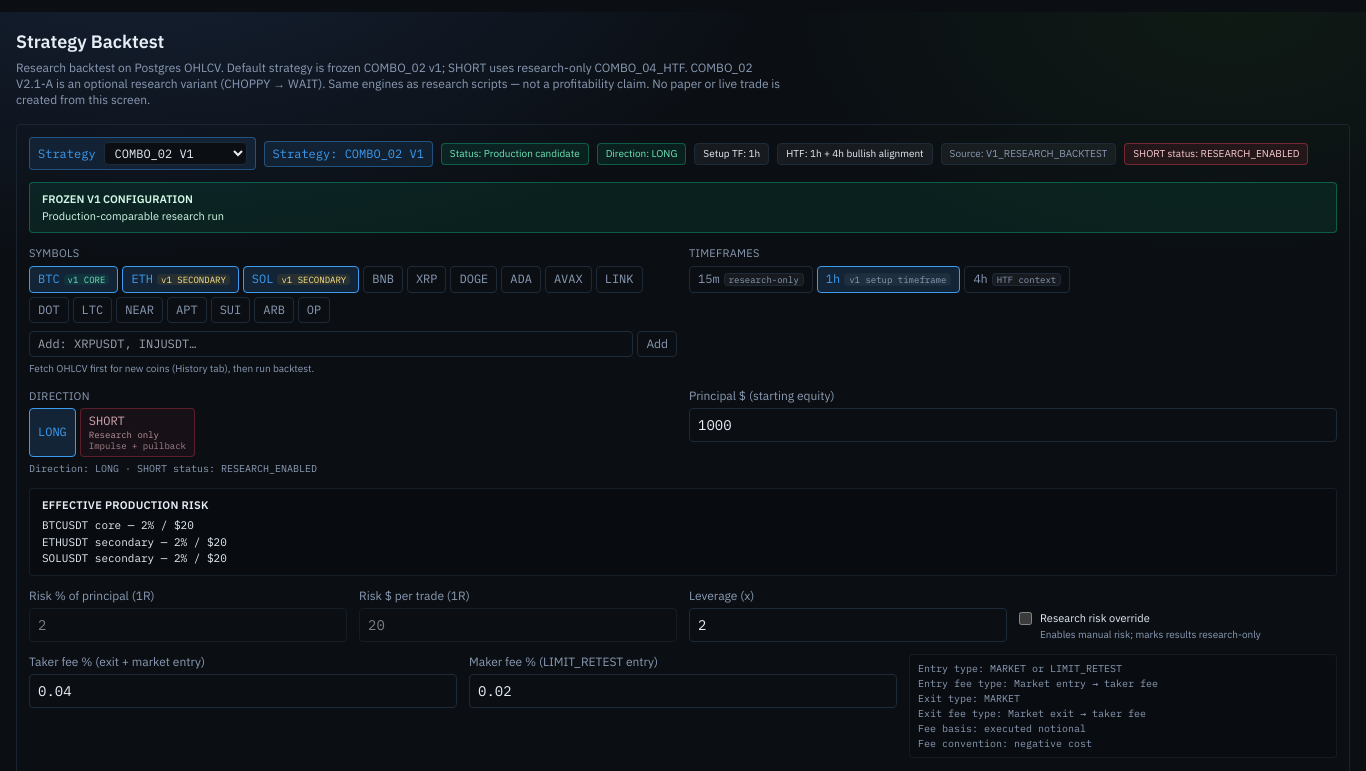
it: BacktestPanel interaction paths › 6. SHORT sends COMBO_04_HTF research request
Click the button titled "SHORT research-only": [137, 432] box [80,408,195,456]
(page scrolled)
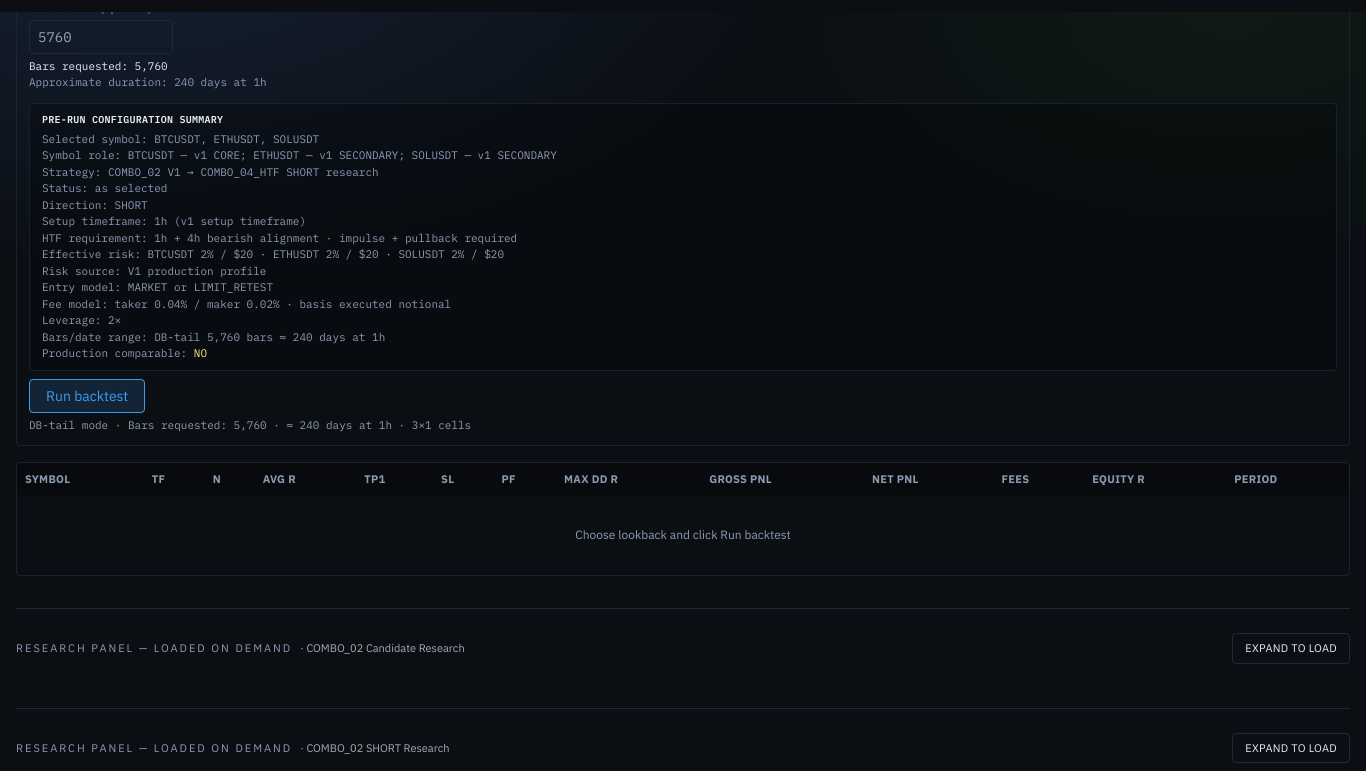
Click the button "Run backtest": [87, 396] box [29,378,145,412]
(page scrolled)
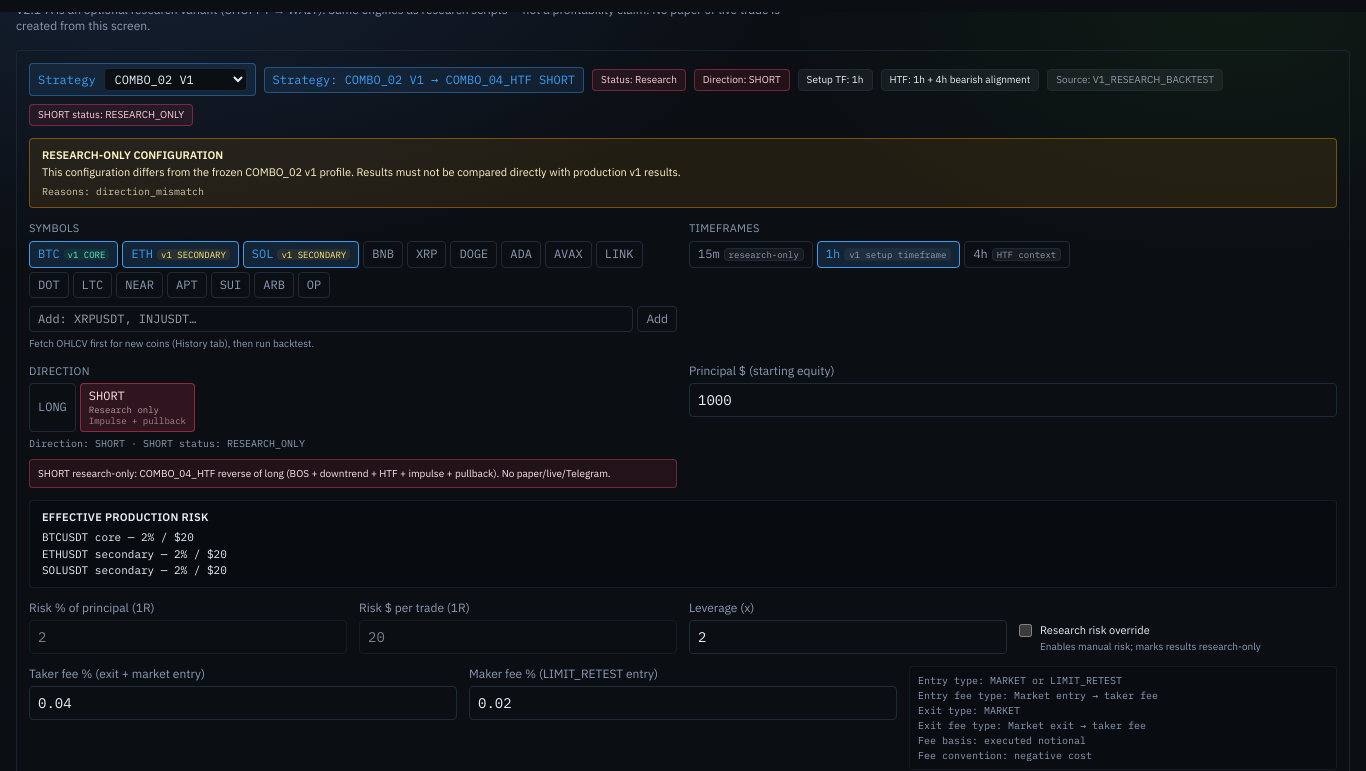
Check: the text "SHORT" is shown, box [89,388,125,403]
